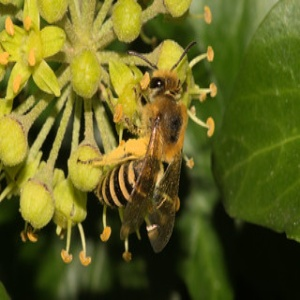bee: (94, 41, 199, 261)
